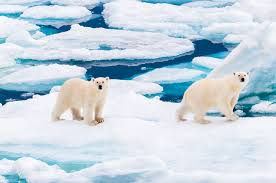PolarBear: (174, 65, 252, 123)
